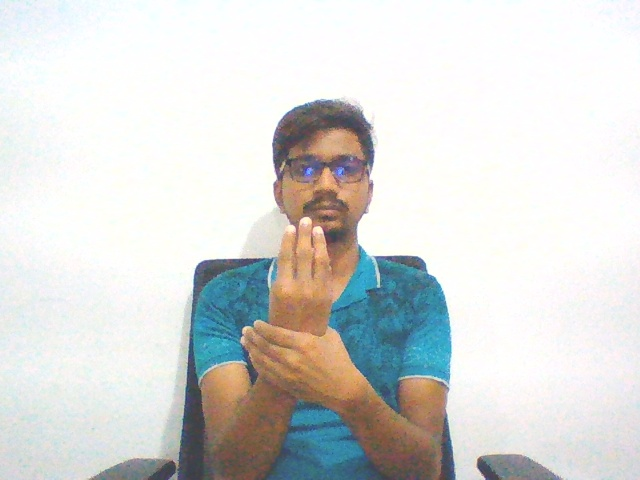tree: (234, 210, 369, 414)
